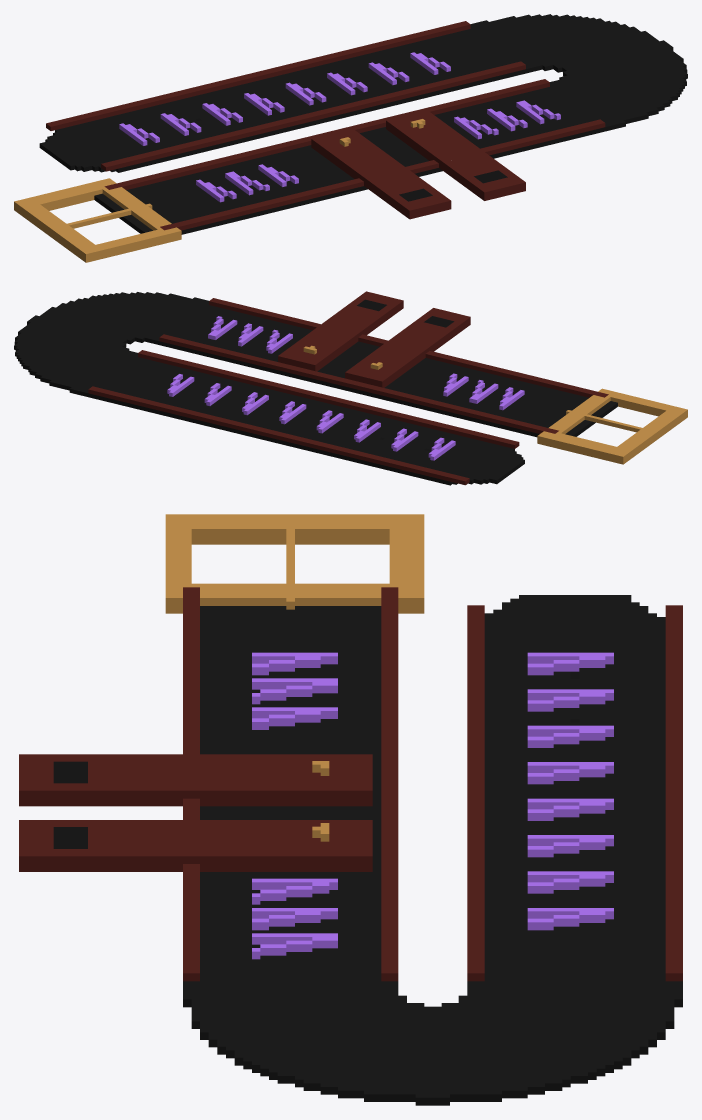
File: mbelt_weaponry.glb
3 renders of one model, top to bottom at view 1: azimuth 30°, elevation 25°; view 2: azimuth 150°, elevation 25°; view 3: azimuth 270°, elevation 25°, orthographic. The views are drawn at different scales.
Visible parts, largest first — view 1: mbelt_weaponry:compound; view 2: mbelt_weaponry:compound; view 3: mbelt_weaponry:compound.
Boxes of the visible parts, box(x1,y1,x2,y2) form: mbelt_weaponry:compound: box(14, 14, 687, 262); mbelt_weaponry:compound: box(14, 291, 687, 485); mbelt_weaponry:compound: box(19, 514, 682, 1105).
Bounding box in the file's own units: 0.632 × 0.016 × 0.308.
